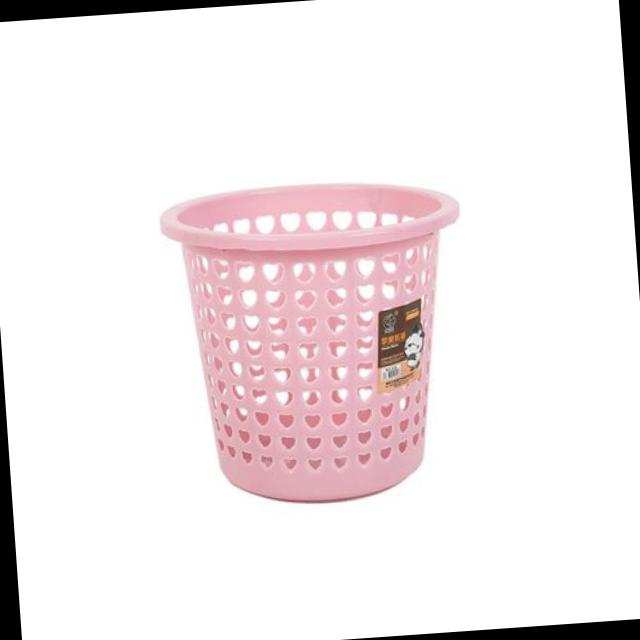dustbin: (155, 166, 482, 519)
